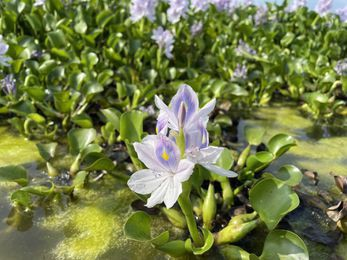water_hyacinth: (119, 84, 347, 260)
